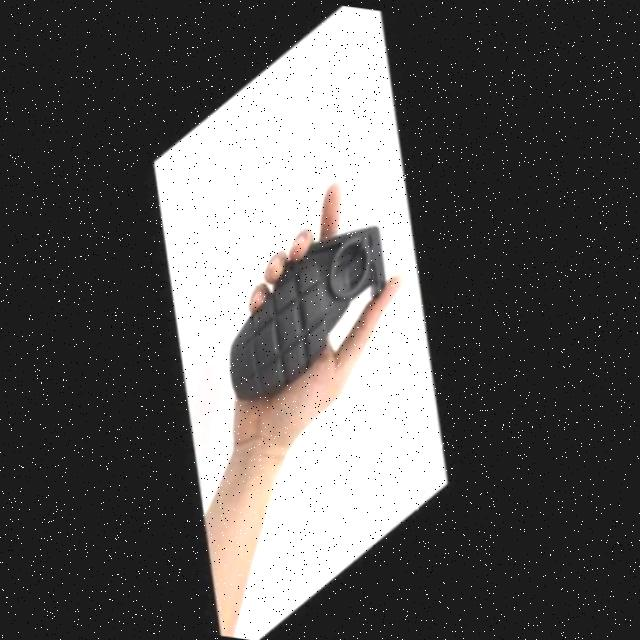grenade: (202, 175, 412, 458)
